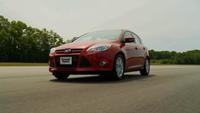car: (48, 29, 150, 81)
